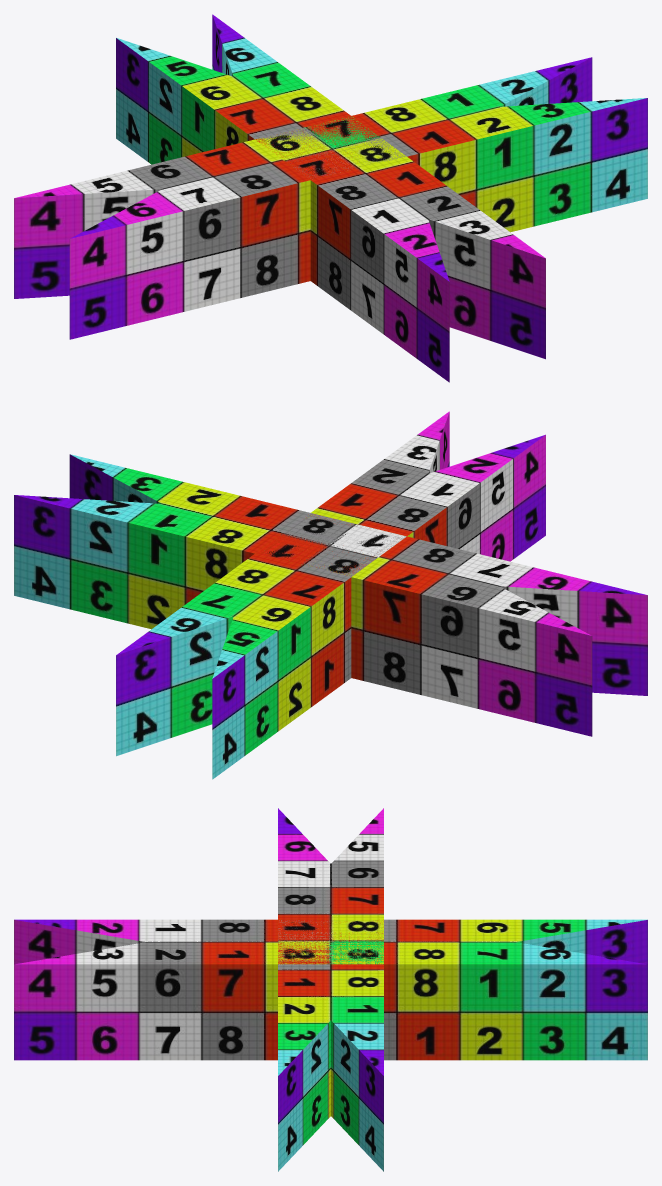
The model's file is garagenrampe1.glb.
3 renders of one model, top to bottom at view 1: azimuth 30°, elevation 25°; view 2: azimuth 150°, elevation 25°; view 3: azimuth 270°, elevation 25°, orthographic. The views are drawn at different scales.
Visible parts, largest first — view 1: oneX, fourX, oneY, fourY, twoY, twoX, threeX, threeY; view 2: twoX, threeX, twoY, threeY, oneX, oneY, fourY, fourX; view 3: threeY, fourY, threeX, oneY, fourX, oneX, twoY, twoX, Cube.
Boxes of the visible parts, bbox=[...] form: oneX: bbox=[69, 118, 348, 339]; fourX: bbox=[345, 98, 647, 232]; oneY: bbox=[255, 117, 449, 382]; fourY: bbox=[343, 121, 545, 359]; twoY: bbox=[116, 37, 350, 164]; twoX: bbox=[14, 122, 331, 298]; threeX: bbox=[258, 57, 592, 158]; threeY: bbox=[212, 14, 350, 139]; twoX: bbox=[351, 536, 592, 736]; threeX: bbox=[14, 495, 405, 629]; twoY: bbox=[212, 537, 405, 779]; threeY: bbox=[116, 516, 403, 756]; oneX: bbox=[305, 516, 647, 695]; oneY: bbox=[304, 434, 545, 574]; fourY: bbox=[311, 411, 449, 536]; fourX: bbox=[69, 454, 403, 535]; threeY: bbox=[278, 920, 647, 1060]; fourY: bbox=[14, 920, 375, 1060]; threeX: bbox=[278, 950, 383, 1171]; oneY: bbox=[14, 919, 383, 964]; fourX: bbox=[278, 924, 382, 1171]; oneX: bbox=[278, 808, 383, 964]; twoY: bbox=[317, 919, 647, 964]; twoX: bbox=[285, 808, 383, 961]; Cube: bbox=[278, 920, 383, 964].
Bounding box in the file's own units: 12 × 2 × 12.
Materials: 1 (1 with a texture image).
